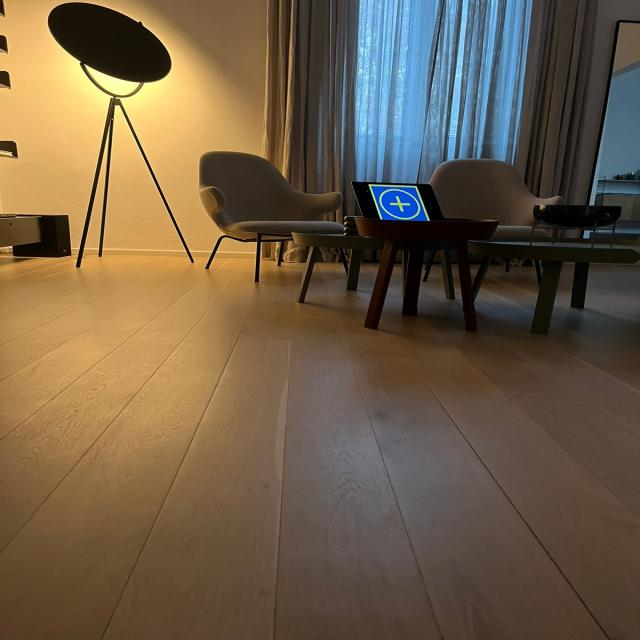Marker: (369, 184, 430, 221)
